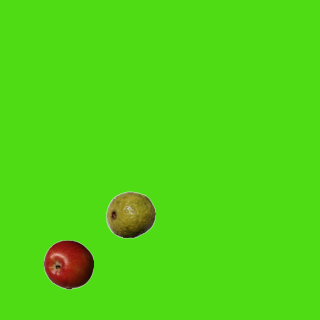Apple Braeburn: (43, 239, 93, 289)
Guava: (105, 189, 155, 239)
